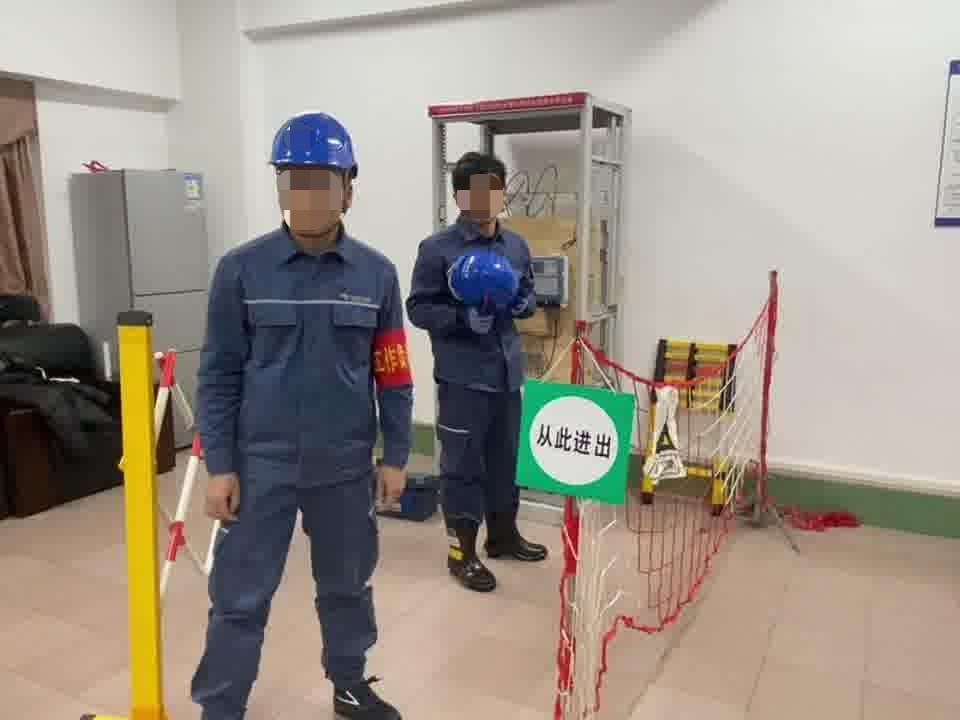halt: (269, 112, 366, 248)
unhalt: (452, 156, 512, 230)
